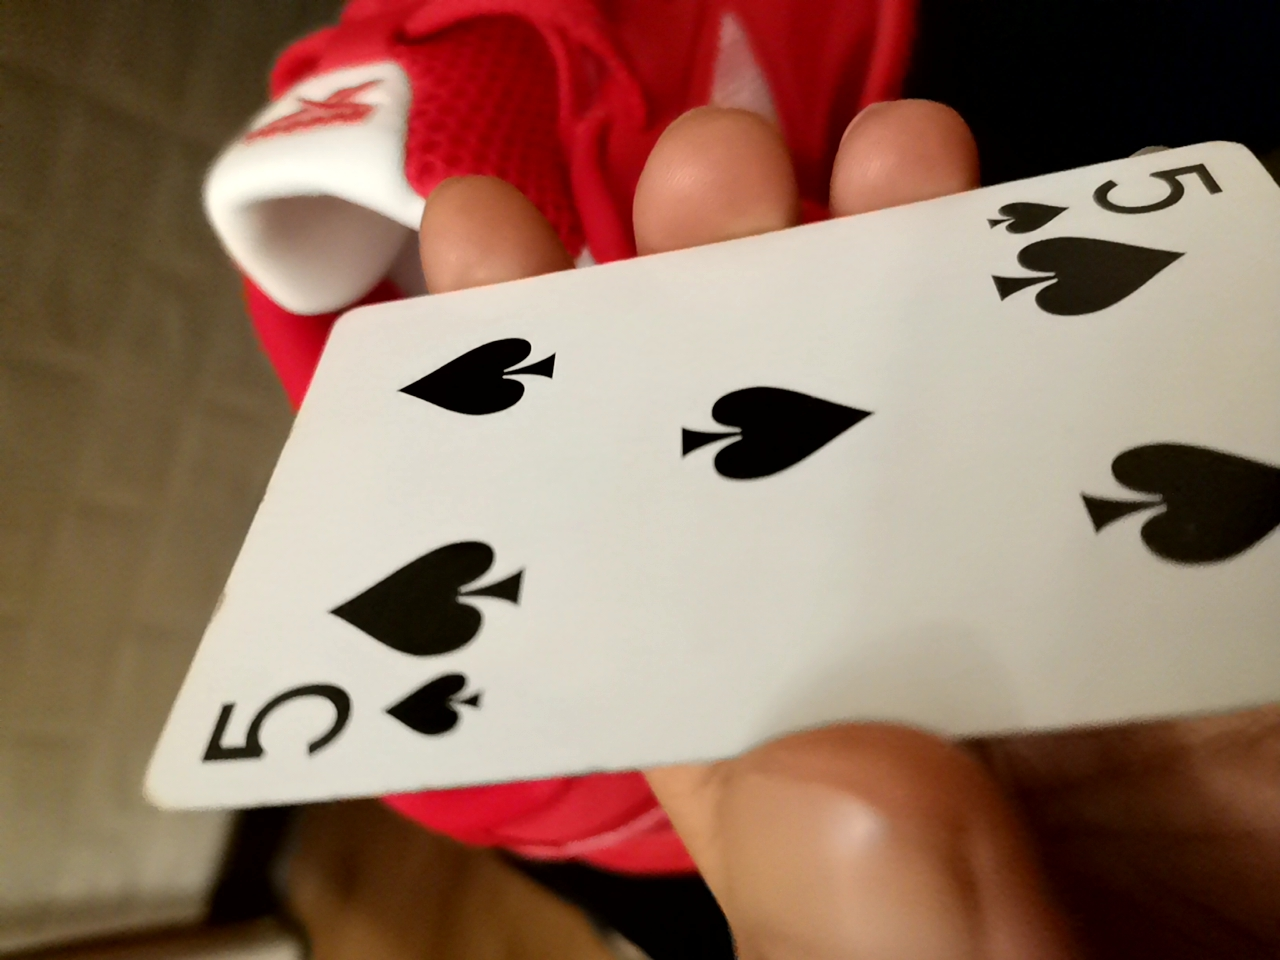ht 5: (164, 128, 1278, 829)
